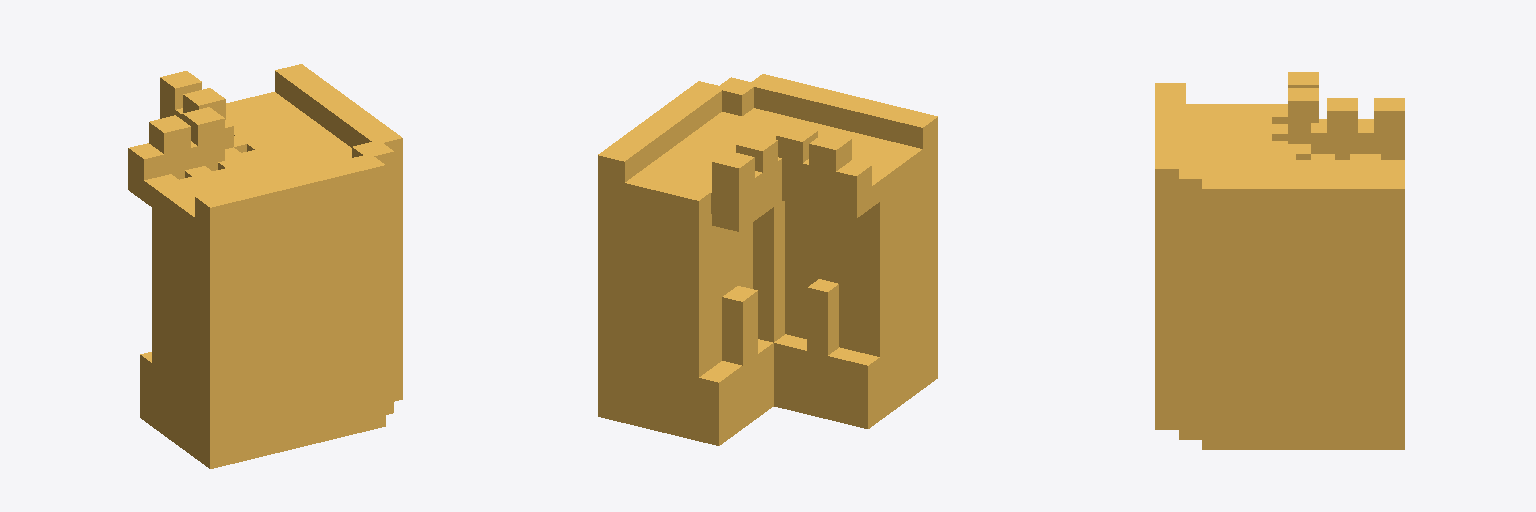
The picture shows the model from 3 angles: view 1: azimuth 30°, elevation 25°; view 2: azimuth 150°, elevation 25°; view 3: azimuth 270°, elevation 25°; orthographic projection.
Visible parts, largest first — view 1: object 1; view 2: object 1; view 3: object 1.
Part boxes in pixels (bbox=[...]): object 1: bbox=[128, 64, 402, 468]; object 1: bbox=[598, 74, 937, 445]; object 1: bbox=[1155, 72, 1404, 449].
Size of the model in its own units: 3.2 by 4 by 3.2.
Materials: 1 (1 with a texture image).